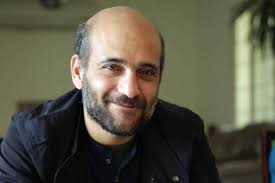middle_eastern_male: (80, 10, 171, 132)
